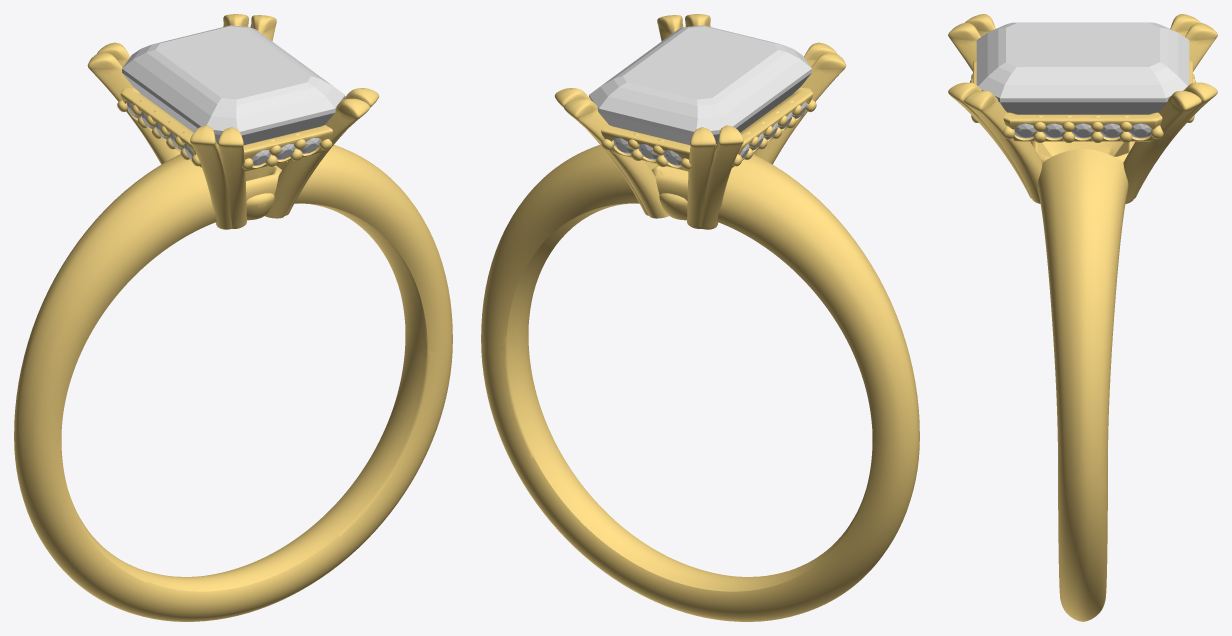
Rendered from CamV3eng_blender.glb.
3 renders of one model, left to right at view 1: azimuth 30°, elevation 25°; view 2: azimuth 150°, elevation 25°; view 3: azimuth 270°, elevation 25°, orthographic.
Visible parts, largest first — view 1: v3 Cam YG for 3d model, v3 Cam dia for 3d model; view 2: v3 Cam YG for 3d model, v3 Cam dia for 3d model; view 3: v3 Cam YG for 3d model, v3 Cam dia for 3d model.
Boxes of the visible parts, left/top/right/bottom form: v3 Cam YG for 3d model: left=14, top=14, right=452, bottom=621; v3 Cam dia for 3d model: left=122, top=25, right=344, bottom=144; v3 Cam YG for 3d model: left=481, top=14, right=919, bottom=621; v3 Cam dia for 3d model: left=589, top=25, right=811, bottom=144; v3 Cam YG for 3d model: left=948, top=14, right=1217, bottom=621; v3 Cam dia for 3d model: left=976, top=22, right=1189, bottom=114.
Bounding box in the file's own units: 20.1 × 24.44 × 10.8.
